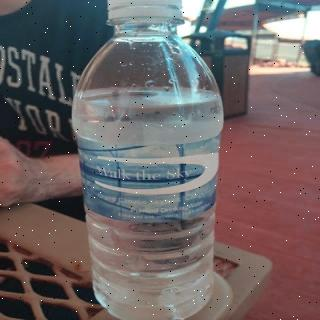Plastic-bottle: (67, 1, 226, 320)
